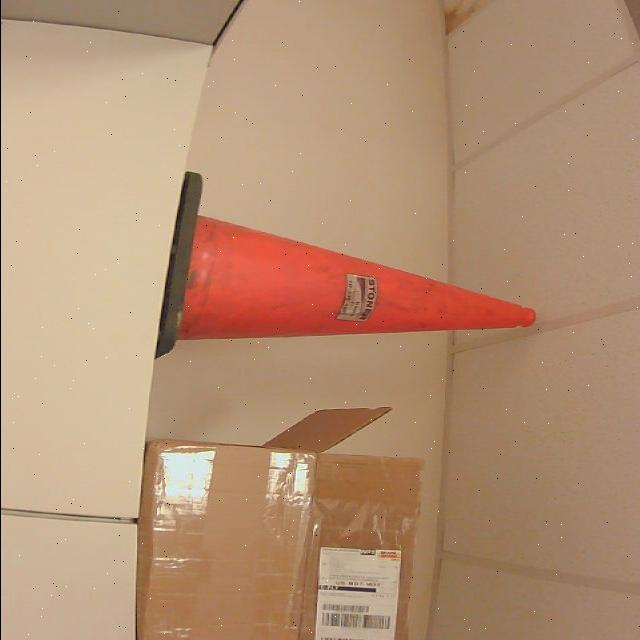traffic cone: (154, 172, 537, 359)
